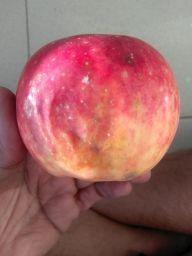Apple Semirotten: (13, 29, 183, 187)
